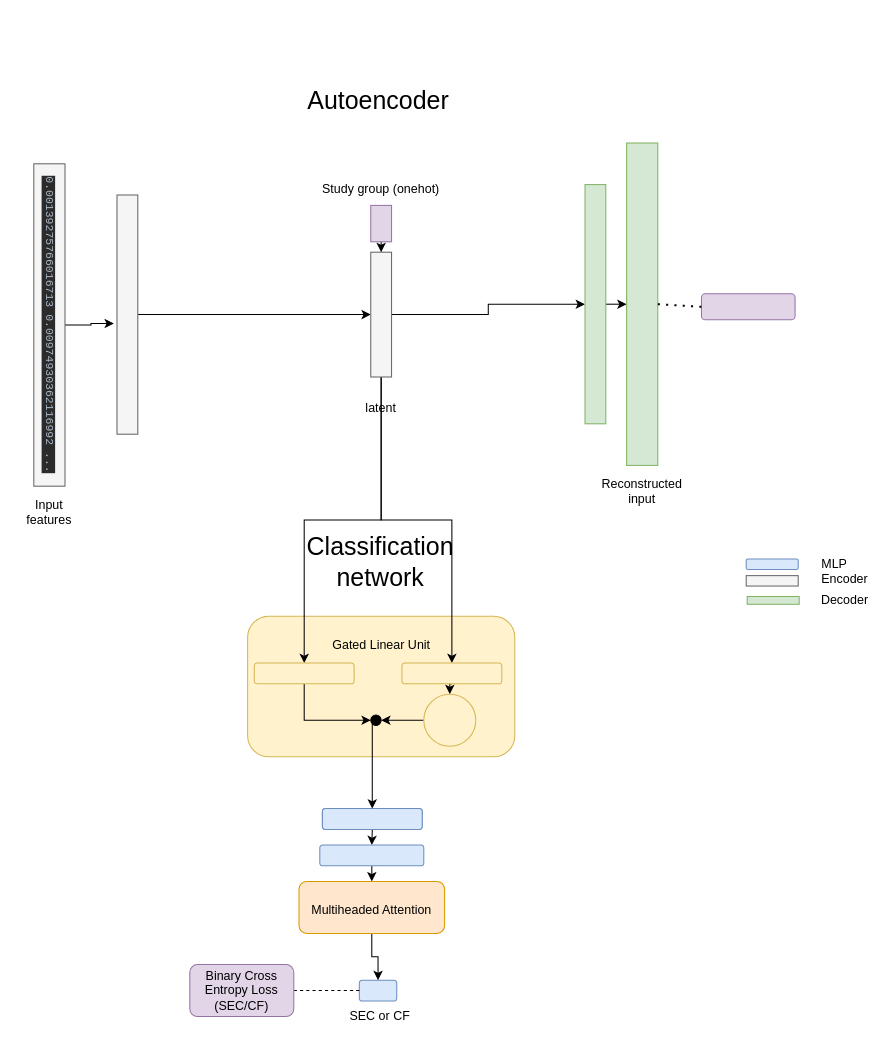
Image size: 893x1049. Some labels were removed from this diagram. Each missing label, with the centre of its shape:
"MSE loss" goes at point 747,306.
"sigmoid" goes at point 449,719.
